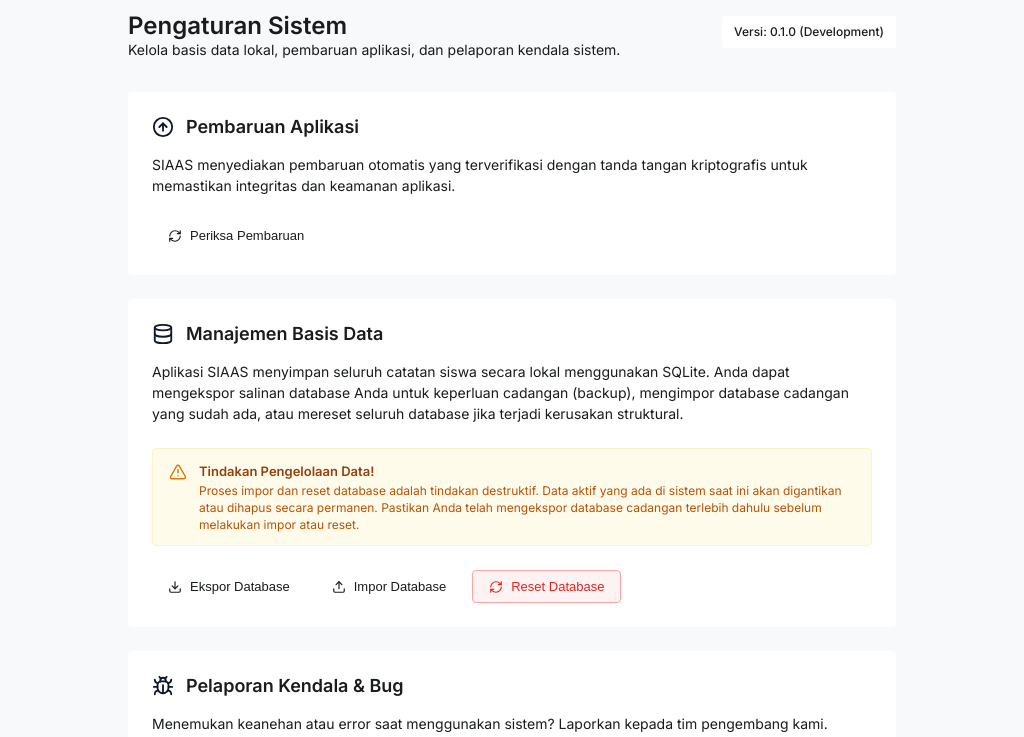
Scenario: PengaturanView › simulates database export in browser mode successfully
Step 1. Click the button with test id "export-db-button" → (229, 587), box [152,570,306,603]
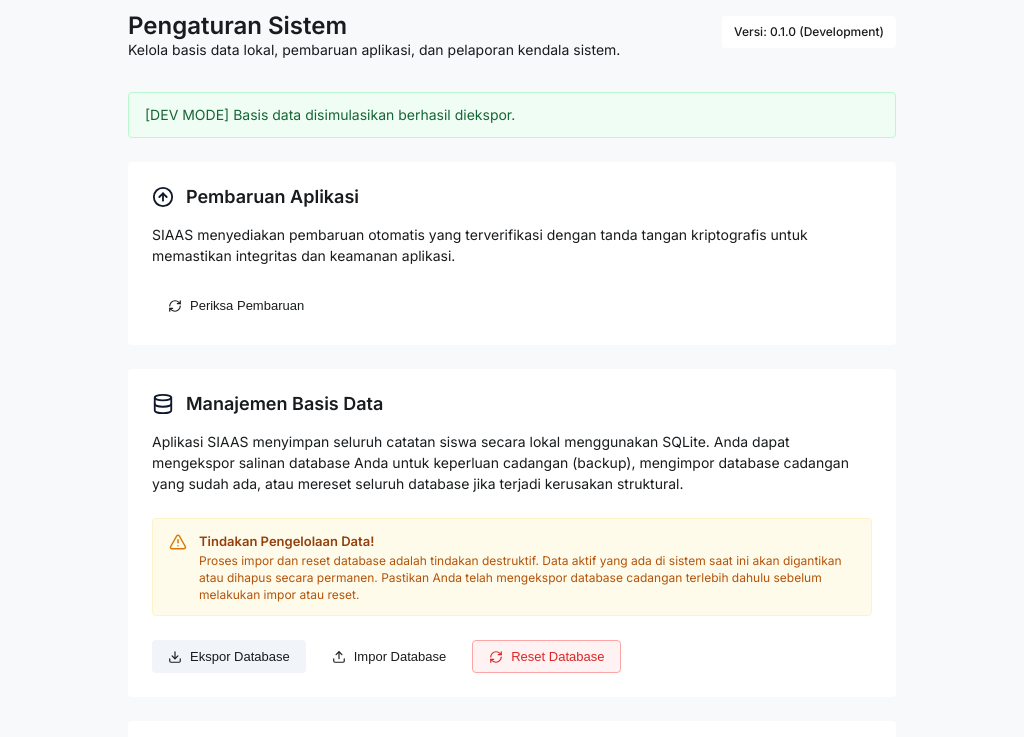
Check: the text "[DEV MODE] Basis data disimulasikan berhasil diekspor." is shown, box [128,92,896,138]
